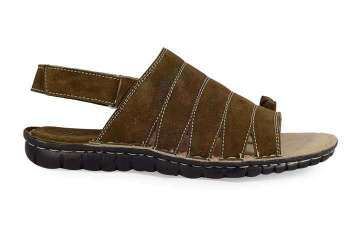Footwear: (18, 45, 341, 180)
